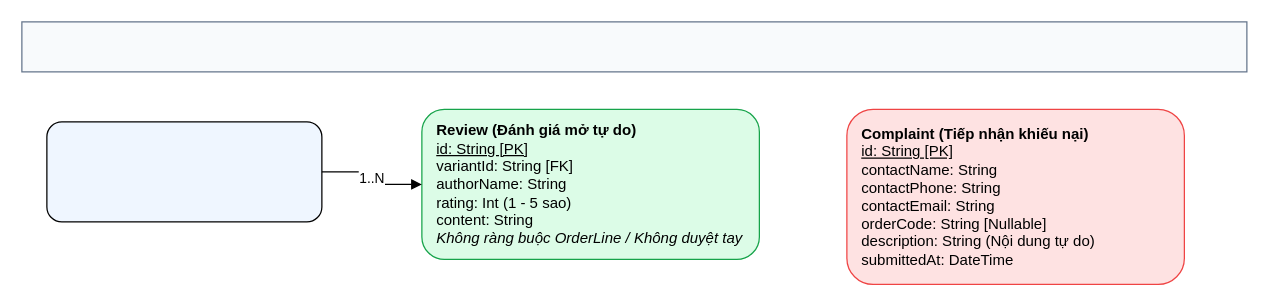
This 1269x306 diagram has some shape labels left out. The centre of each missing label's shape, as x and y in pixels:
"ERD CHI TIẾT: ĐÁNH GIÁ MỞ TỰ DO VÀ TIẾP NHẬN YÊU CẦU KHIẾU NẠI" goes at (634,46).
"ProductVariant (SKU) id: String [PK] skuCode: String" goes at (184,171).
